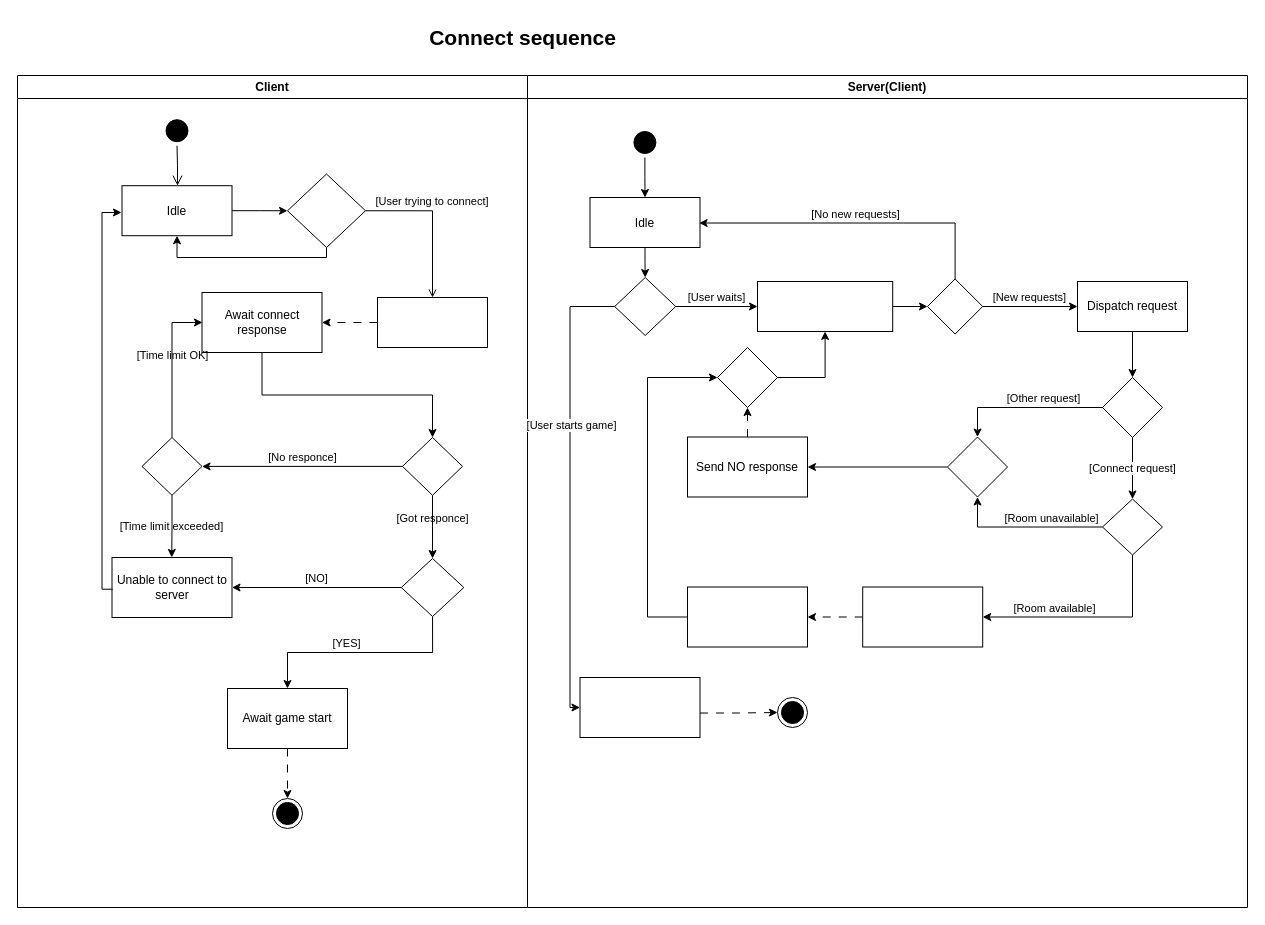
This 1265x925 diagram has some shape labels left out. Each missing label, with the centre of its shape:
Check network queue: the point at 824,306
Fill room: the point at 747,616
Send connect request to a server: the point at 432,322
Send OK response: the point at 922,616
Send start game message: the point at 639,707
